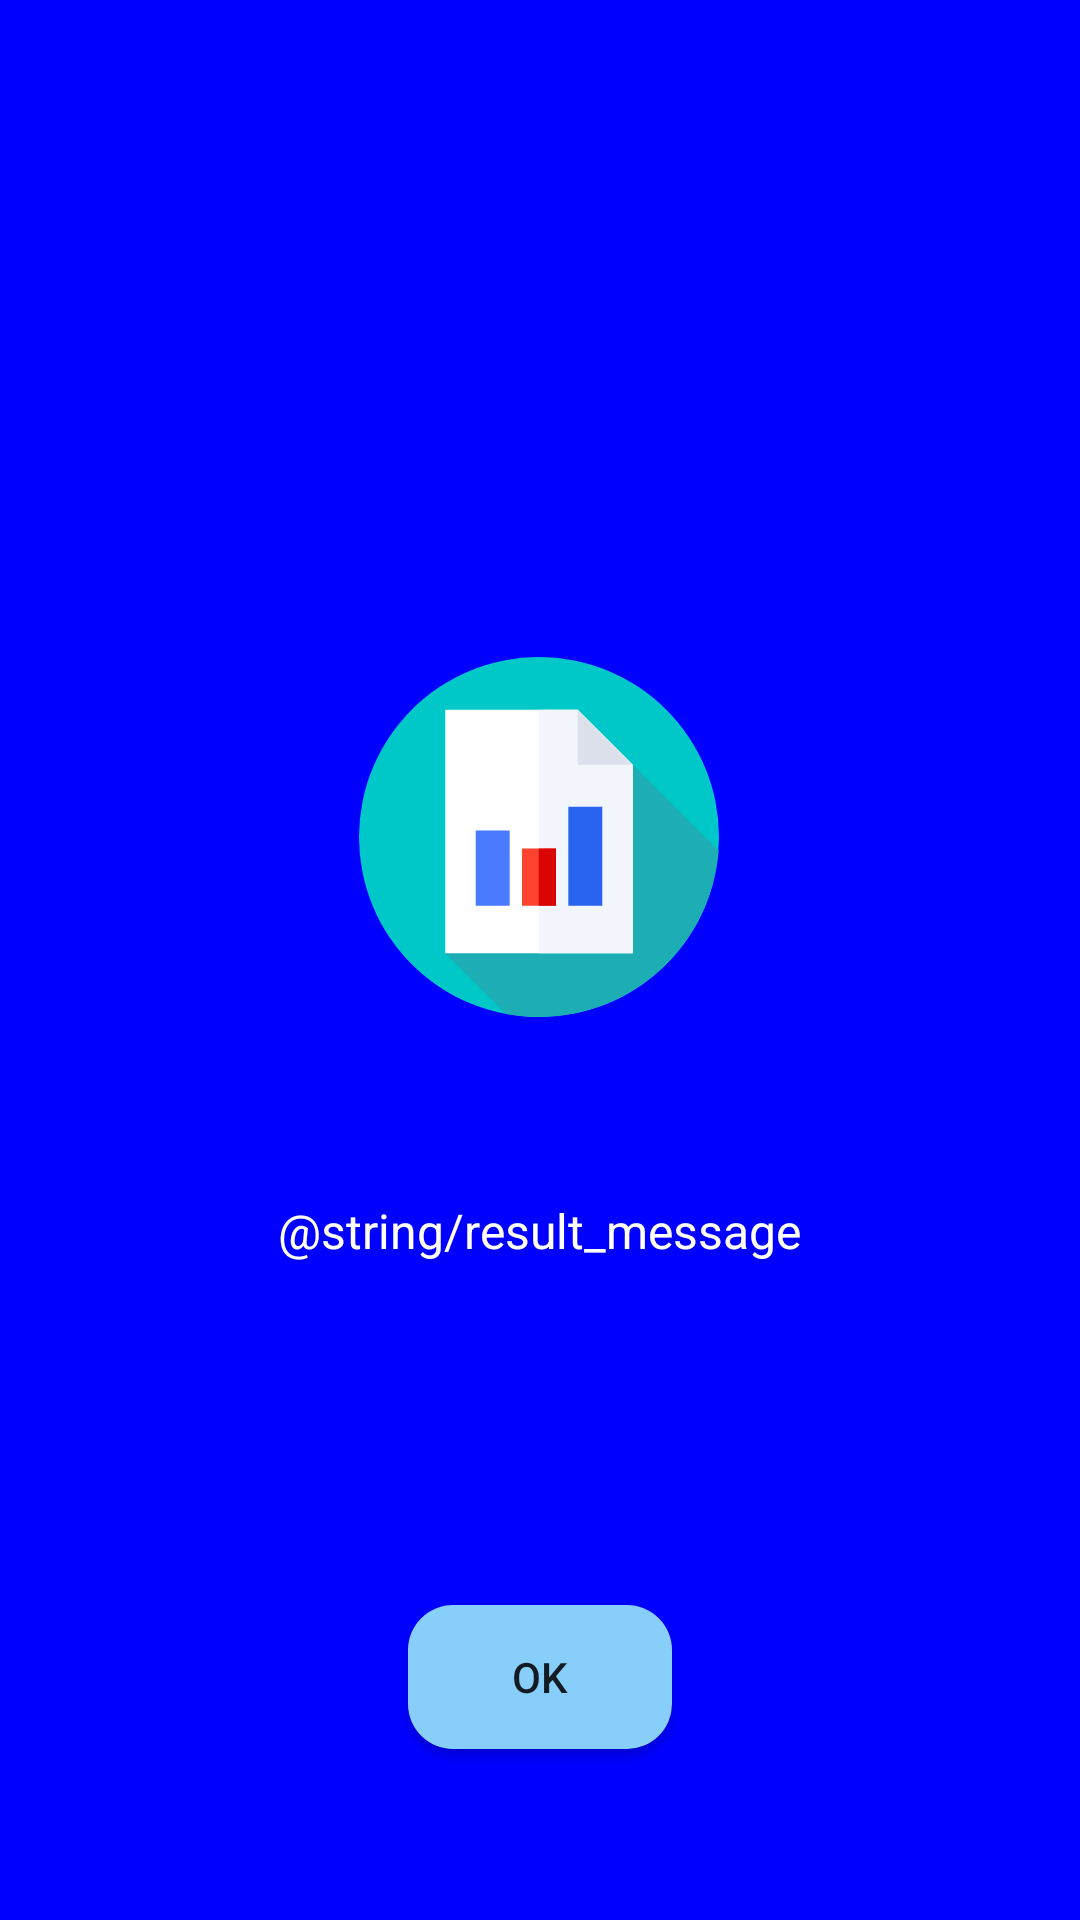

Named icons in this screenshot (1080*1920) and their centers, point (x, y):
results: point (539, 837)
